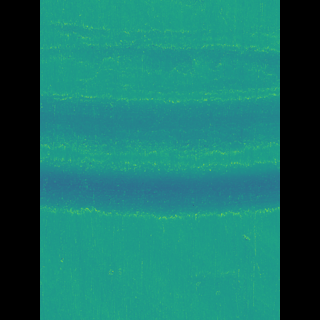Loch: (69, 21, 249, 220)
